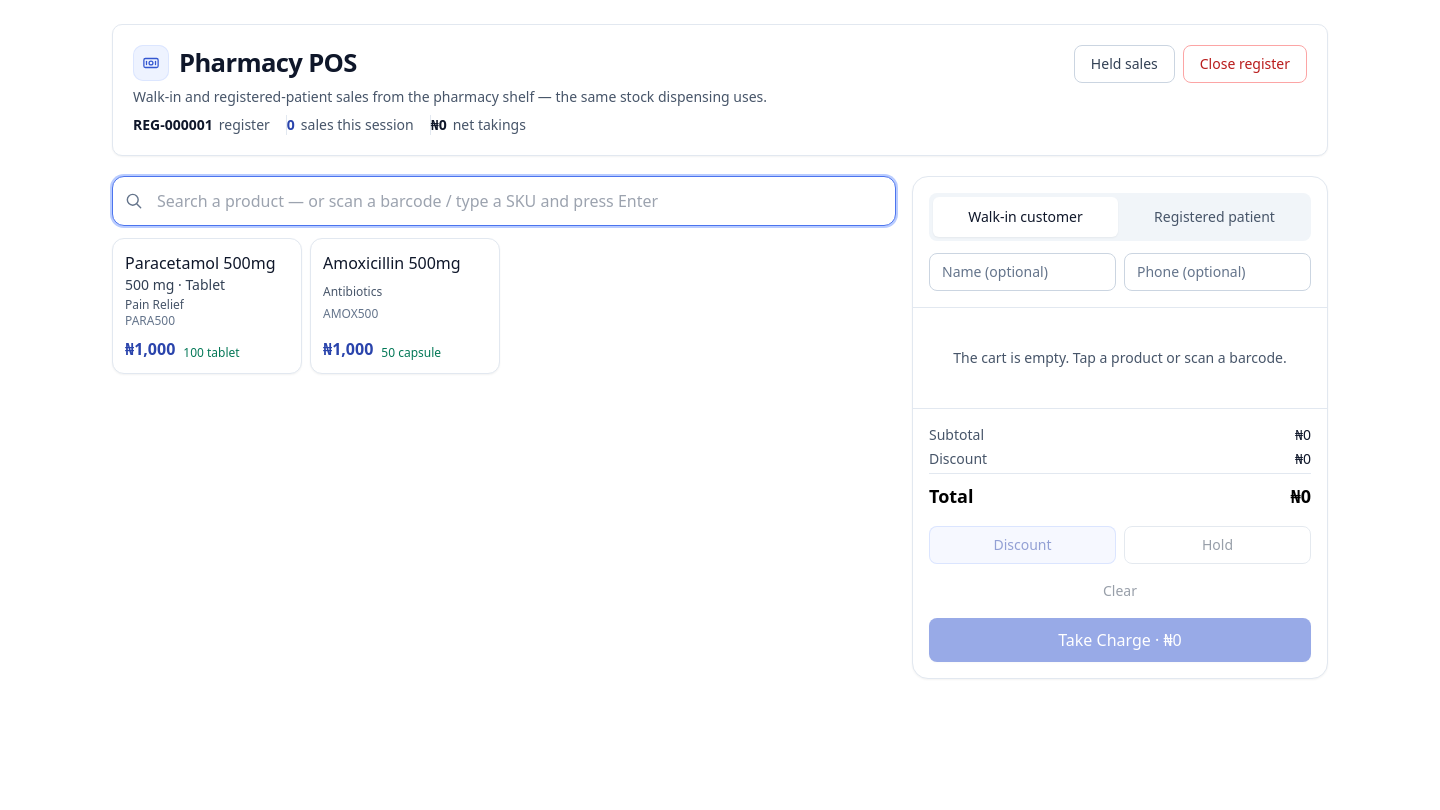
Test: discounting one item › offers the hospital's own preset percentages and reasons
The width and height of the screenshot is (1440, 810).
Click the button "Paracetamol 500mg". click: (207, 306)
box: x1=112 y1=238 x2=302 y2=374
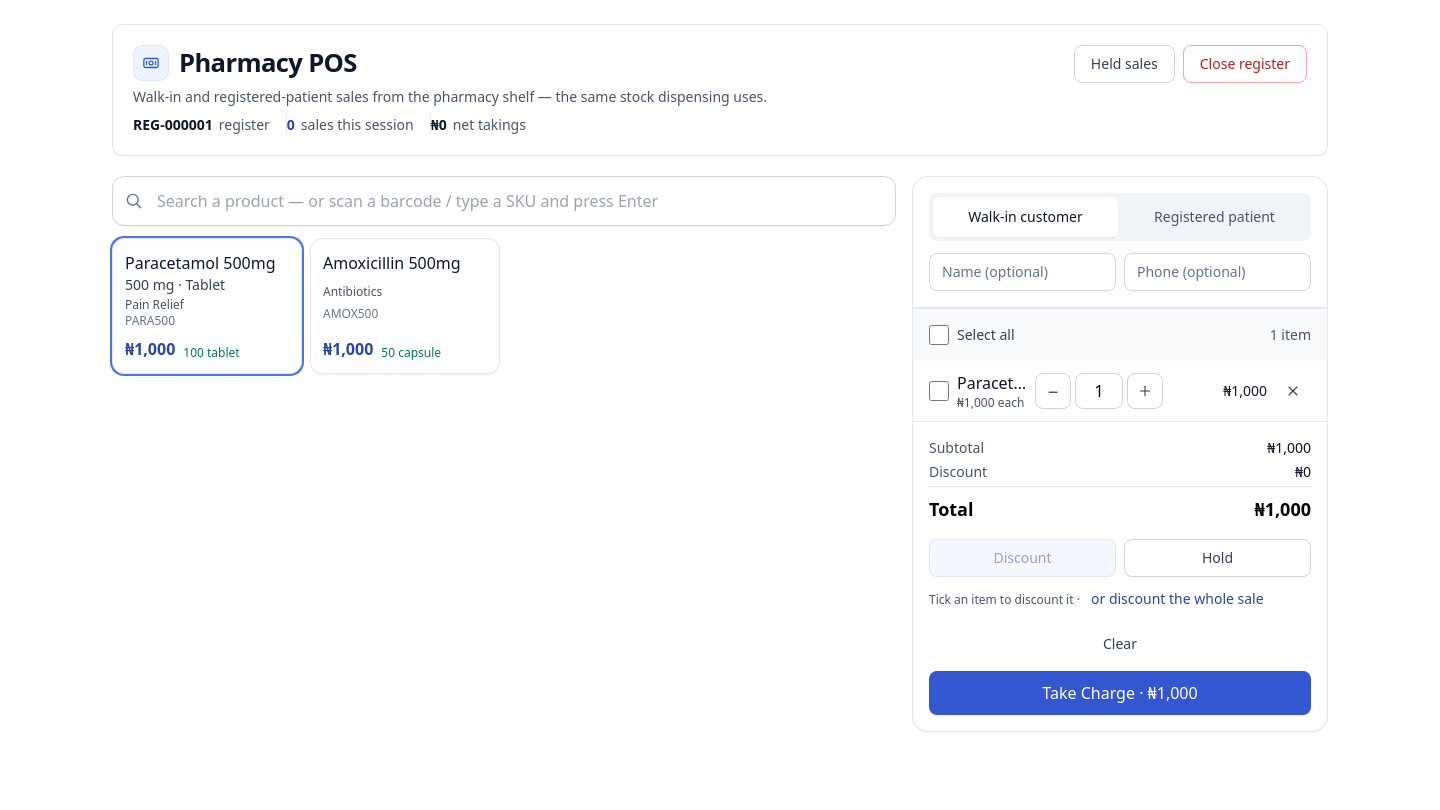
Click the checkbox named "Select Paracetamol 500mg". click: (939, 391)
box: x1=929 y1=381 x2=949 y2=401
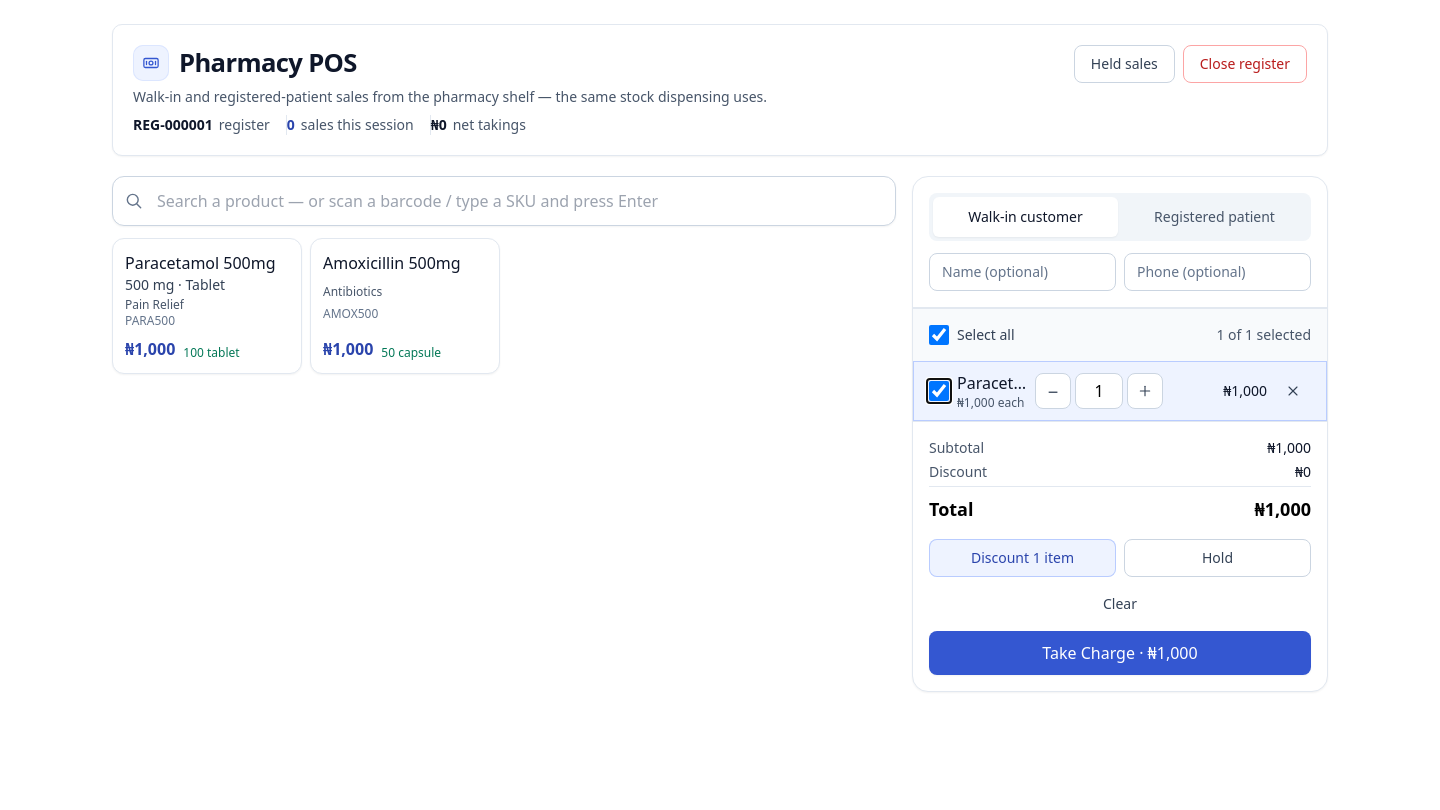
Click the button "Discount 1 item". click: (1022, 558)
box: x1=929 y1=539 x2=1116 y2=577
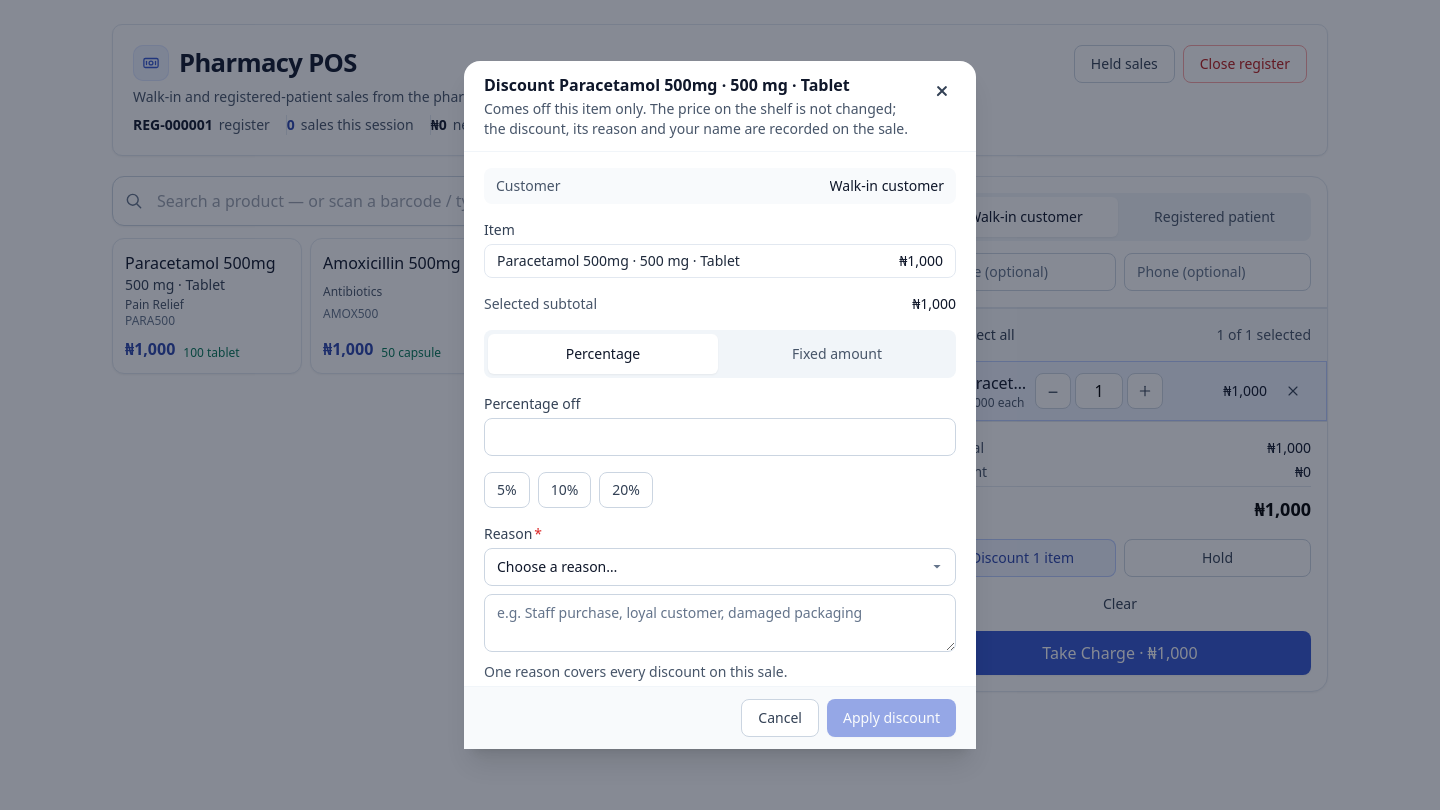
Expected: the button "5%" is shown, x1=484 y1=472 x2=530 y2=508
Expected: the button "10%" is shown, x1=538 y1=472 x2=591 y2=508
Expected: the button "20%" is shown, x1=599 y1=472 x2=653 y2=508
